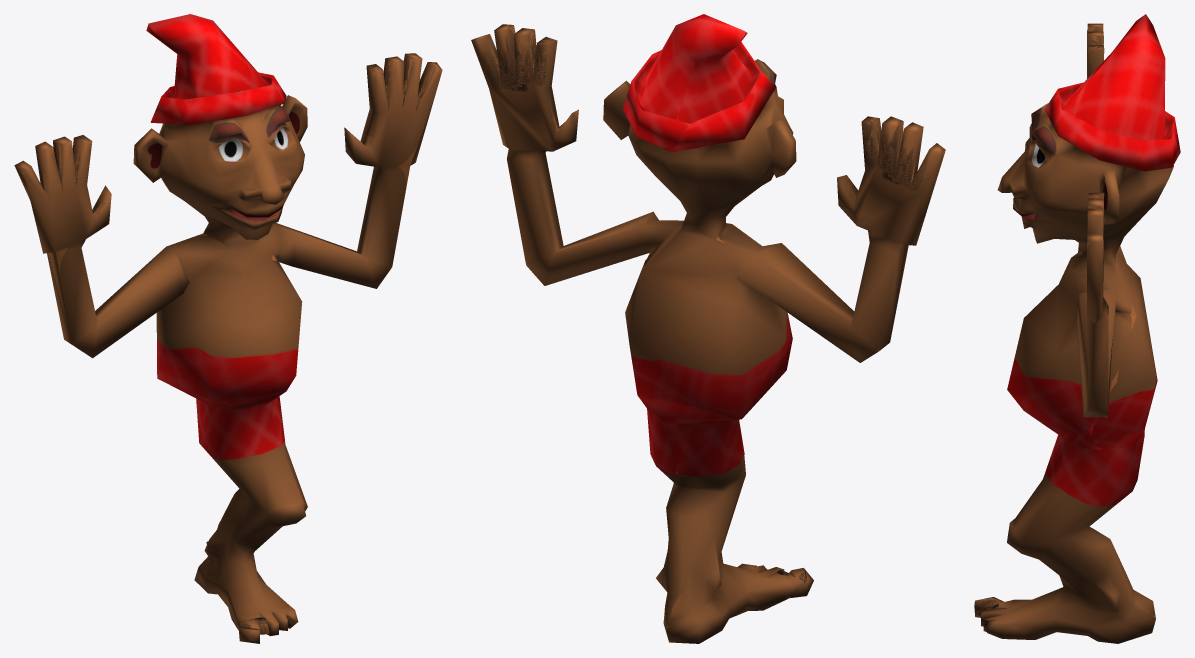
File: saci_01.glb
3 views of the same model, side by side, from view 1: azimuth 30°, elevation 25°; view 2: azimuth 150°, elevation 25°; view 3: azimuth 270°, elevation 25° (orthographic). The views are drawn at different scales.
Parts seen in each view (by area): view 1: torso.001; view 2: torso.001; view 3: torso.001.
Boxes of the visible parts, x1,y1,x2,y2 form: torso.001: (14,14,442,643); torso.001: (471,14,945,643); torso.001: (974,14,1180,643).
Bounding box in the file's own units: 9.04 × 11.63 × 3.69.
Materials: 1 (1 with a texture image).
